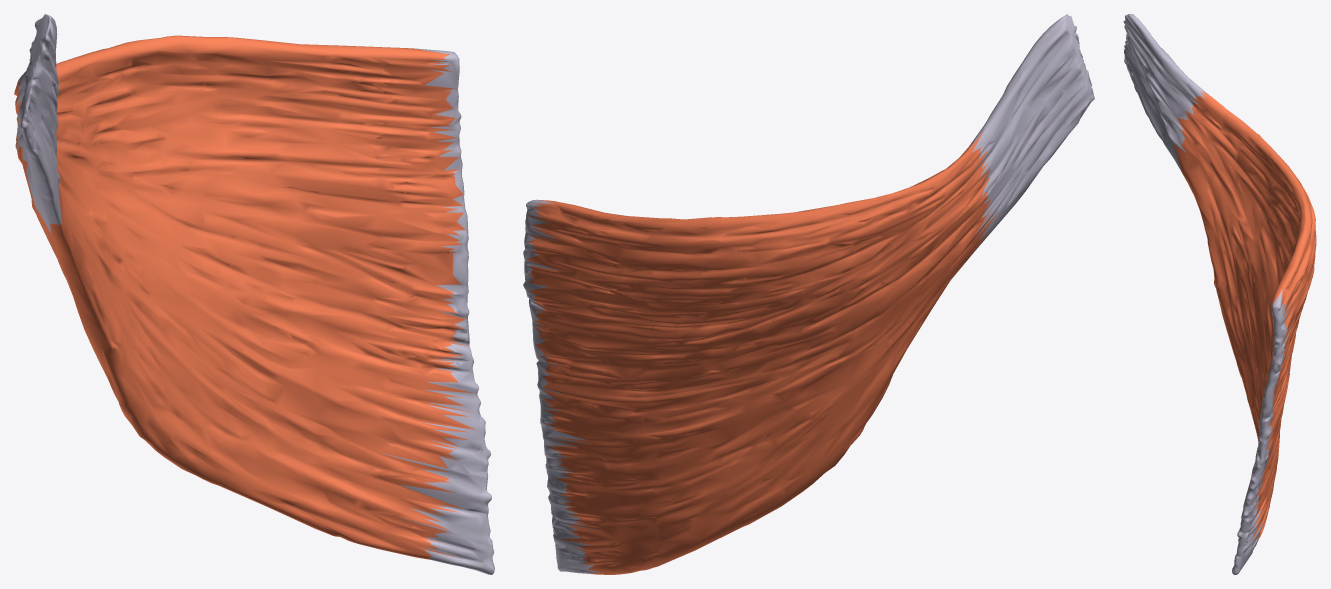
Rendered from Latissimus_dorsi_muscle'.r_Generated_Mesh_From_X3D.400.glb.
The picture shows the model from 3 angles, left to right: view 1: azimuth 30°, elevation 25°; view 2: azimuth 150°, elevation 25°; view 3: azimuth 270°, elevation 25°; orthographic projection. The views are drawn at different scales.
Parts seen in each view (by area): view 1: Latissimus_dorsi_muscle'.r_Generated_Mesh_From_X3D.400; view 2: Latissimus_dorsi_muscle'.r_Generated_Mesh_From_X3D.400; view 3: Latissimus_dorsi_muscle'.r_Generated_Mesh_From_X3D.400.
Boxes of the visible parts, <box> form: Latissimus_dorsi_muscle'.r_Generated_Mesh_From_X3D.400: <box>14,14,494,574</box>; Latissimus_dorsi_muscle'.r_Generated_Mesh_From_X3D.400: <box>523,14,1094,574</box>; Latissimus_dorsi_muscle'.r_Generated_Mesh_From_X3D.400: <box>1123,14,1316,574</box>.
Bounding box in the file's own units: 0.1829 × 0.2296 × 0.0963.
